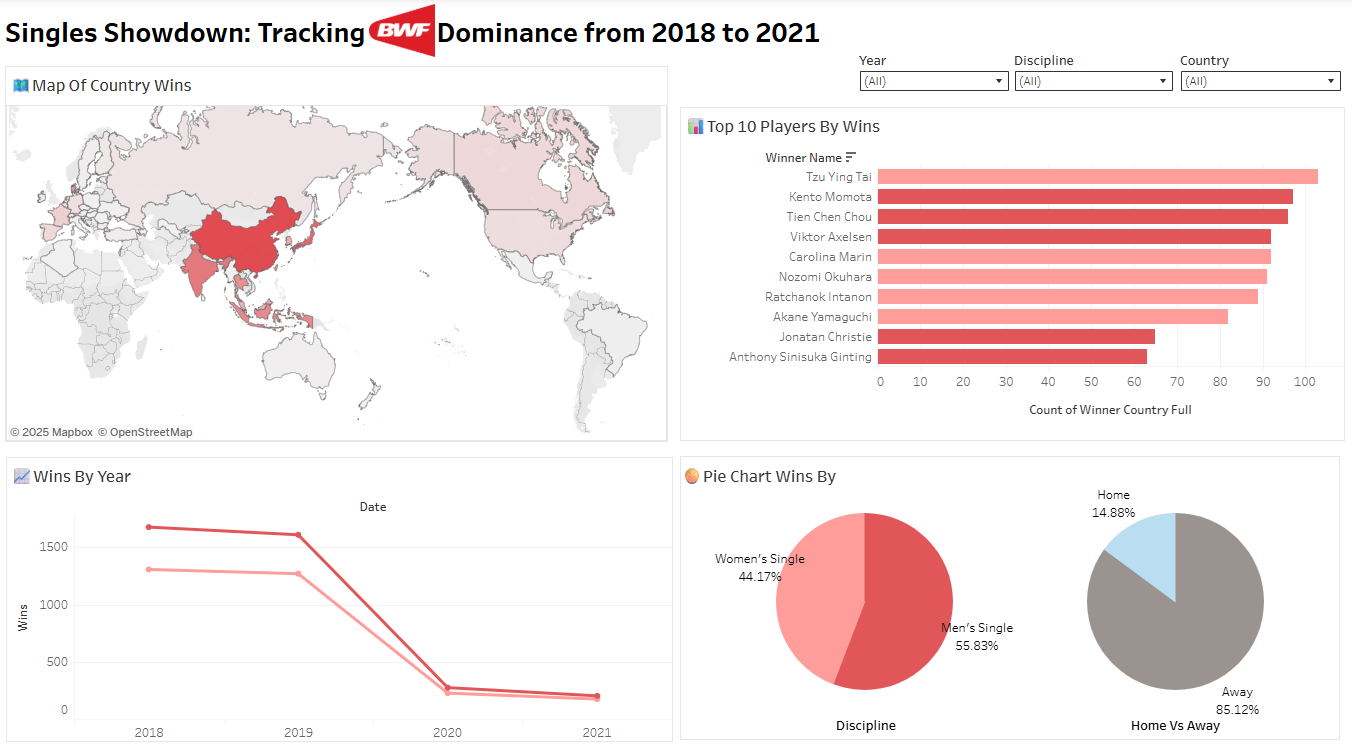

This screenshot's page, from the dashboard's own definition file:
{"tool":"tableau","page":{"name":"Singles Showdown Dashboard","canvas":[1366,768],"ordinal":0},"visuals":[{"type":"text","box":[9,17,1139,59]},{"type":"image","param":"Image/bwf image.png","box":[464,21,103,58]},{"type":"filter","title":"Wins By Country","param":"[federated.0ddqsu71mxk64a11y0xnd1uvd1fc].[yr:date:ok]","box":[863,67,151,53]},{"type":"filter","title":"Wins By Country","param":"[federated.0ddqsu71mxk64a11y0xnd1uvd1fc].[none:discipline:nk]","box":[1018,67,160,53]},{"type":"filter","title":"Wins By Country","param":"[federated.0ddqsu71mxk64a11y0xnd1uvd1fc].[none:Calculation_2517793676102848516:n","box":[1184,67,162,53]},{"type":"worksheet","title":"Wins By Country","mark":"Multipolygon","box":[9,82,663,376]},{"type":"worksheet","title":"Top 10 Players by Win","mark":"Automatic","rows":["Calculation_2517793676099633154"],"cols":["Calculation_2517793676102848516"],"box":[684,123,665,334]},{"type":"text","box":[684,472,660,284]},{"type":"worksheet","title":"Wins By Year","mark":"Automatic","rows":["winner"],"cols":["date"],"box":[10,473,667,285]},{"type":"text","box":[685,473,217,36]},{"type":"worksheet","title":"Wins by Discipline Pie Chart","mark":"Pie","box":[719,500,299,235]},{"type":"worksheet","title":"Home Vs Away Wins Pie Chart","mark":"Pie","box":[1030,500,299,235]},{"type":"text","box":[816,713,108,56]},{"type":"text","box":[1109,713,141,56]}]}

Visuals, with their boxes in screenshot pixels (x1, y1, x2, y2), scaled from the page's 1366x768 canvas onto the 1352x747 screenshot:
text: BBox(9, 17, 1136, 74)
image: BBox(459, 20, 561, 77)
"Wins By Country" filter: BBox(854, 65, 1004, 117)
"Wins By Country" filter: BBox(1008, 65, 1166, 117)
"Wins By Country" filter: BBox(1172, 65, 1332, 117)
"Wins By Country" worksheet (Multipolygon marks): BBox(9, 80, 665, 445)
"Top 10 Players by Win" worksheet: BBox(677, 120, 1335, 445)
text: BBox(677, 459, 1330, 735)
"Wins By Year" worksheet: BBox(10, 460, 670, 737)
text: BBox(678, 460, 893, 495)
"Wins by Discipline Pie Chart" worksheet (Pie marks): BBox(712, 486, 1008, 715)
"Home Vs Away Wins Pie Chart" worksheet (Pie marks): BBox(1019, 486, 1315, 715)
text: BBox(808, 694, 915, 746)
text: BBox(1098, 694, 1237, 746)
